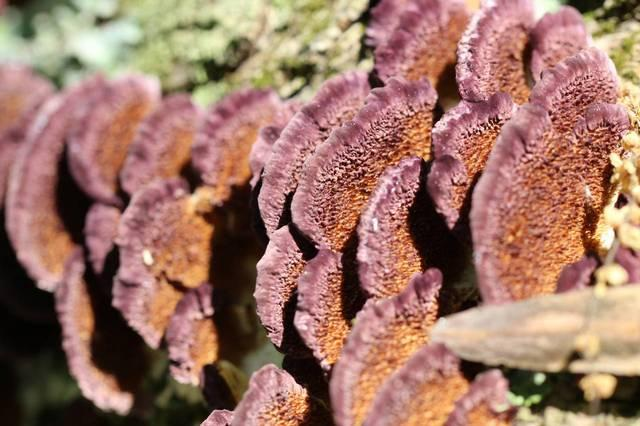Non-edible Mushroom: (2, 1, 636, 424)
